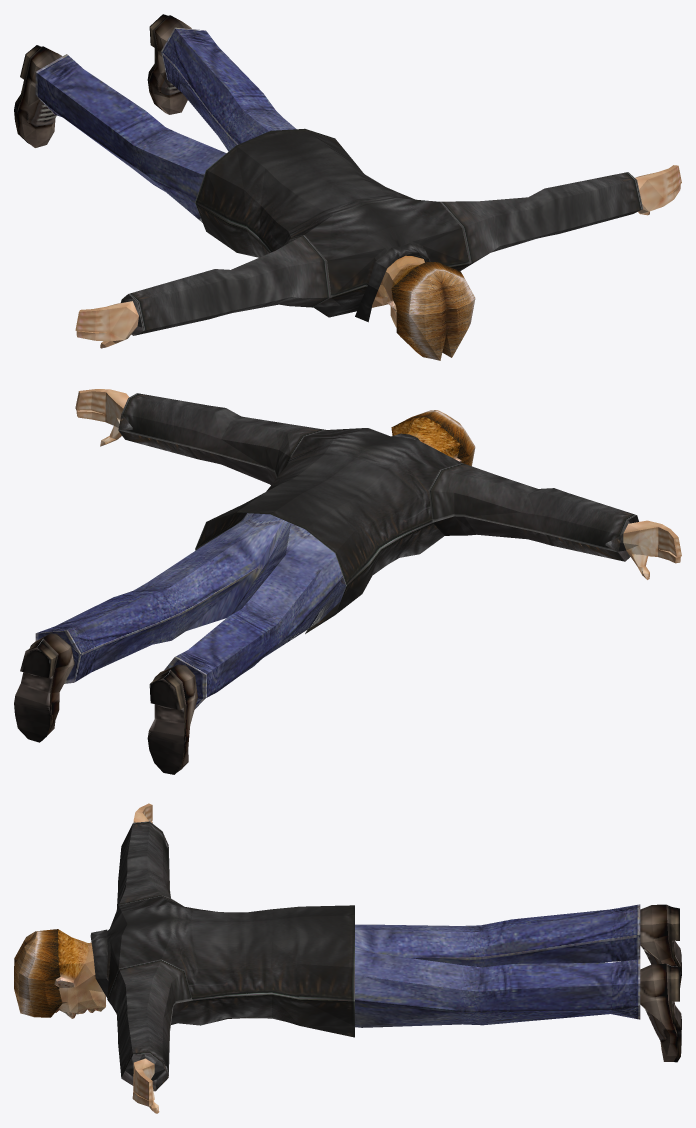
Rendered from thug_melvin_wtf.obj.
3 renders of one model, top to bottom at view 1: azimuth 30°, elevation 25°; view 2: azimuth 150°, elevation 25°; view 3: azimuth 270°, elevation 25°, orthographic. The views are drawn at different scales.
Parts seen in each view (by area): view 1: group1; view 2: group1; view 3: group1.
Boxes of the visible parts, box(x1,y1,x2,y2) form: group1: box(14, 14, 681, 360); group1: box(14, 389, 681, 774); group1: box(14, 803, 681, 1113).
Size of the model in its own units: 659 by 124 by 660.
